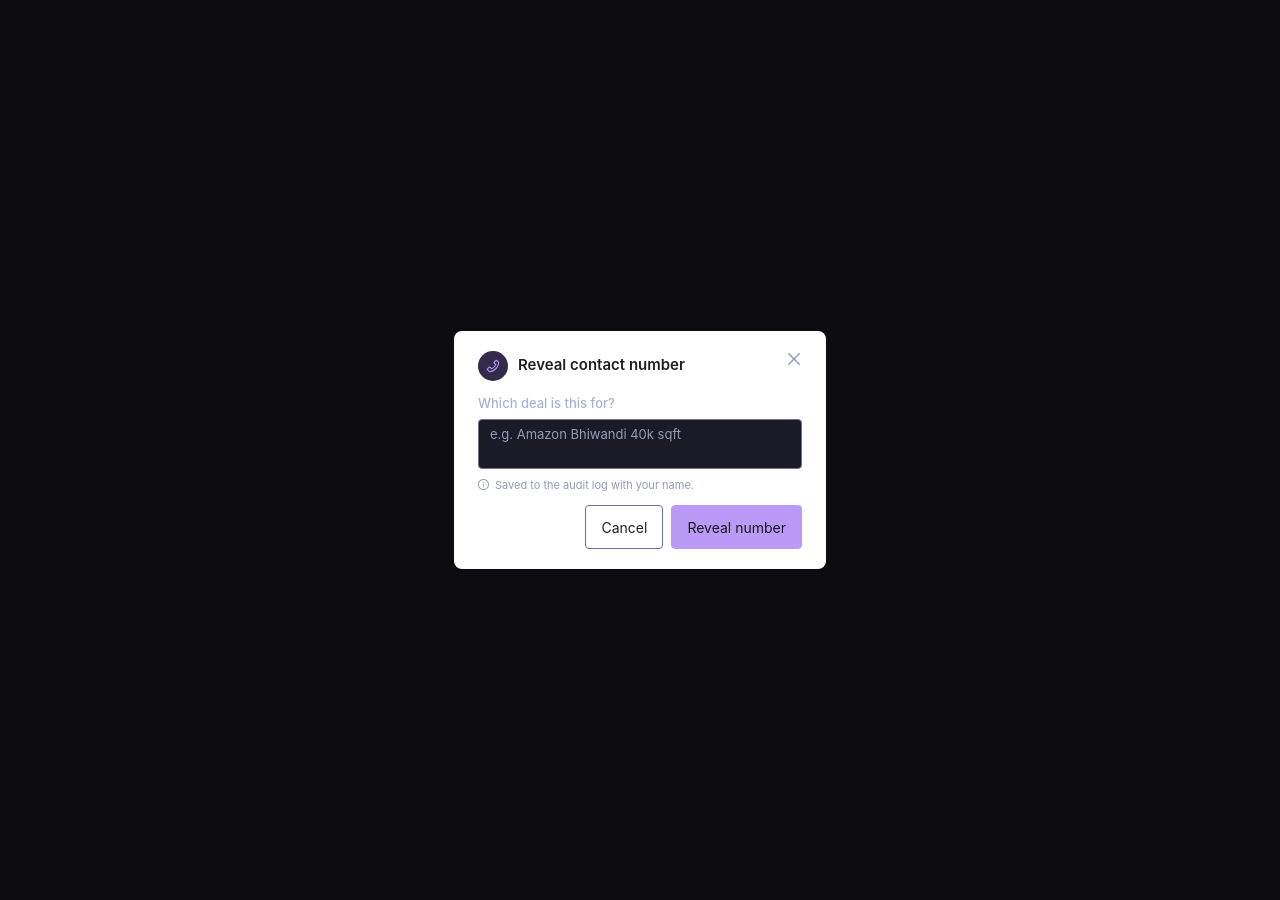
Test: RevealReasonModal › shows the audit notice by default and swaps it for the error in place
Check: the text "Saved to the audit log with your name." is shown, box top-left (495, 477), bottom-right (694, 494)
Click the button "Reveal number" at (737, 528), box top-left (671, 506), bottom-right (802, 550)
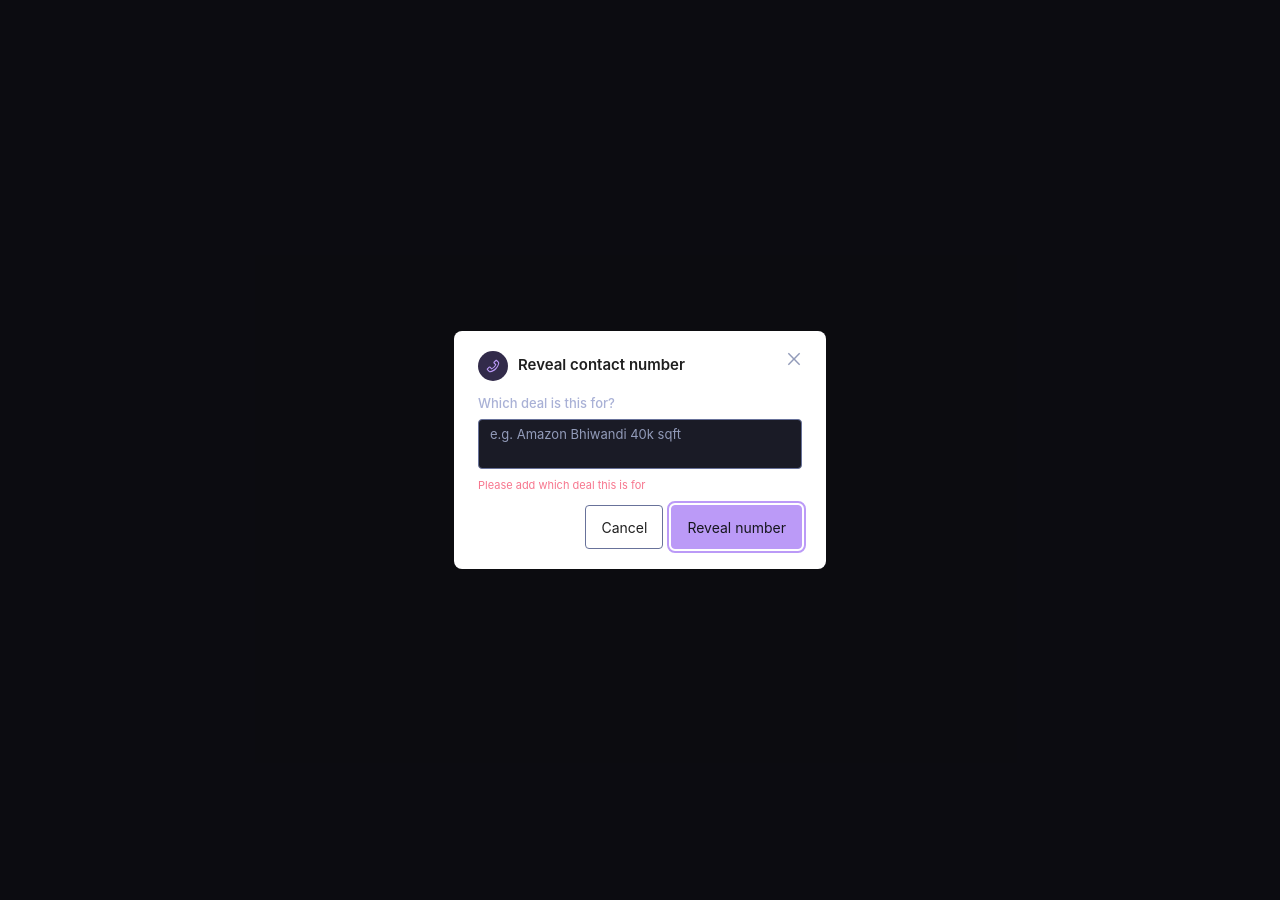
Check: the text "Please add which deal this is for" is shown, box top-left (478, 477), bottom-right (645, 494)
Check: the text "Saved to the audit log" is gone
